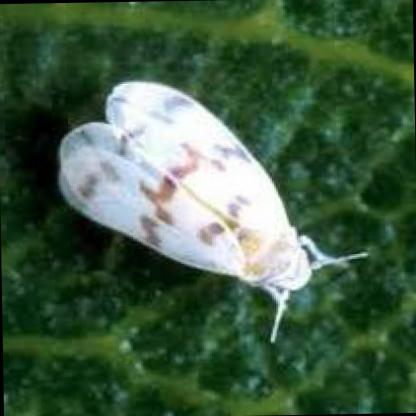whitefly: (55, 80, 313, 292)
